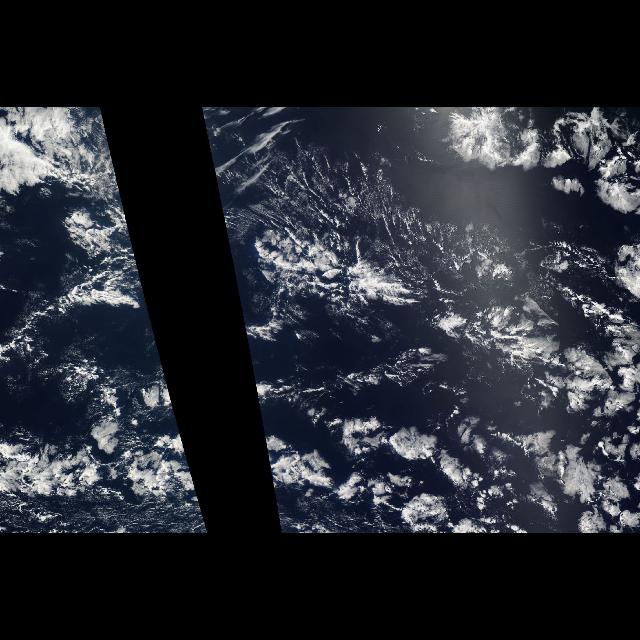Flower: (249, 316, 639, 532)
Gravel: (240, 166, 582, 336)
